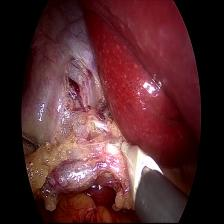Grasper: (22, 130, 45, 162)
Hook: (114, 134, 160, 192)
